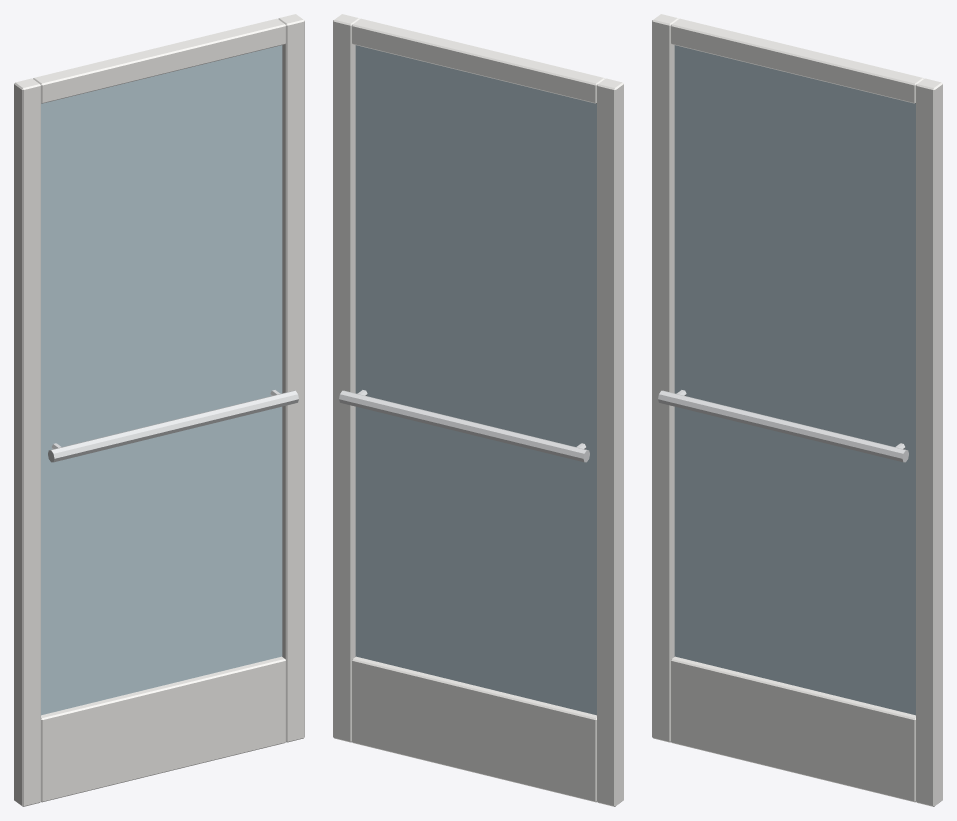
File: door_hall.glb
3 renders of one model, left to right at view 1: azimuth 30°, elevation 25°; view 2: azimuth 150°, elevation 25°; view 3: azimuth 330°, elevation 25°, orthographic.
Parts seen in each view (by area): view 1: door_hall_glass, door_hall_frame, door_hall_chrome; view 2: door_hall_glass, door_hall_frame, door_hall_chrome; view 3: door_hall_glass, door_hall_frame, door_hall_chrome.
Part boxes in pixels (<box>): door_hall_glass: <box>41,45,282,715</box>; door_hall_frame: <box>14,14,304,806</box>; door_hall_chrome: <box>48,390,298,462</box>; door_hall_glass: <box>355,45,596,715</box>; door_hall_frame: <box>333,14,623,806</box>; door_hall_chrome: <box>339,390,589,462</box>; door_hall_glass: <box>674,45,915,715</box>; door_hall_frame: <box>652,14,942,806</box>; door_hall_chrome: <box>658,390,908,462</box>.
Bounding box in the file's own units: 0.88 × 2.13 × 0.186.
